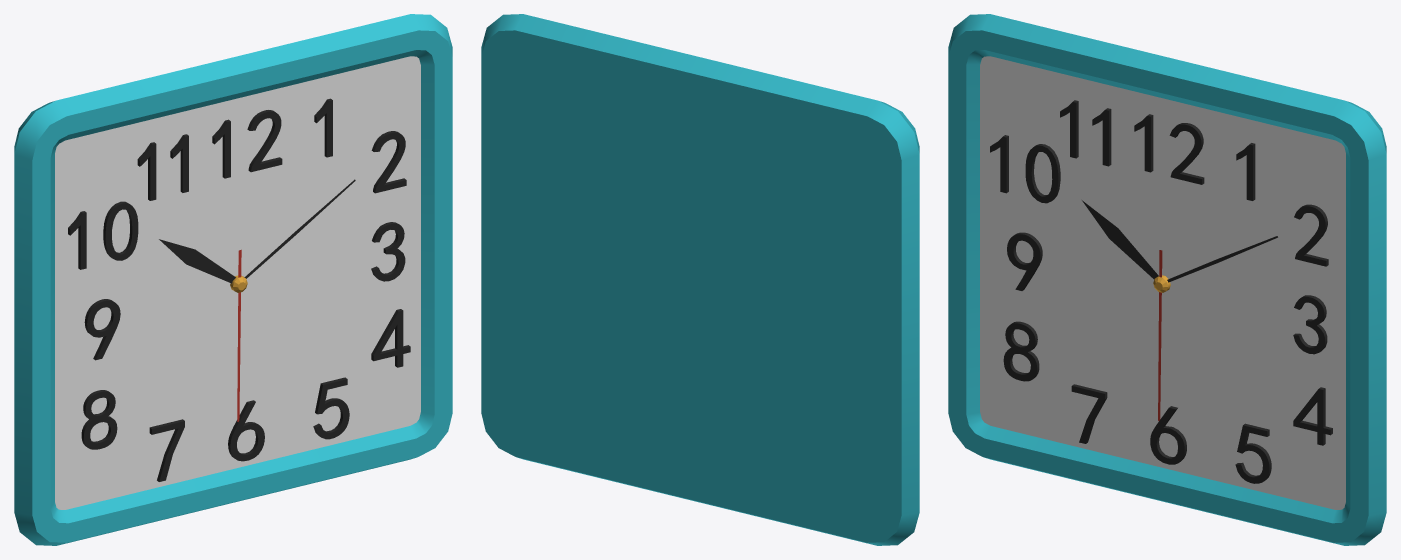
File: Horloge.fbx
3 views of the same model, side by side, from view 1: azimuth 30°, elevation 25°; view 2: azimuth 150°, elevation 25°; view 3: azimuth 330°, elevation 25° (orthographic).
Visible parts, largest first — view 1: Horloge; view 2: Horloge; view 3: Horloge.
Part boxes in pixels (x1,y1,x2,y2): Horloge: (14,14,452,545); Horloge: (481,14,919,545); Horloge: (948,14,1386,545).
Size of the model in its own units: 41.53 by 40.31 by 2.98.
